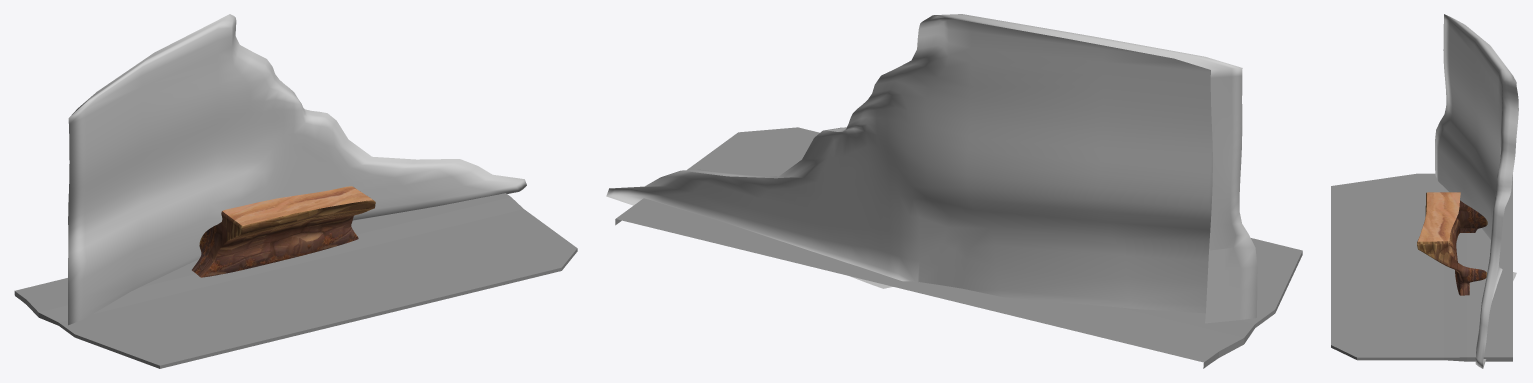
File: boss.FBX
3 renders of one model, left to right at view 1: azimuth 30°, elevation 25°; view 2: azimuth 150°, elevation 25°; view 3: azimuth 270°, elevation 25°, orthographic. The views are drawn at different scales.
Parts seen in each view (by area): view 1: Stage_Left, Ground, platform-problem; view 2: Stage_Left, Ground; view 3: Ground, Stage_Left, platform-problem.
Boxes of the visible parts, x1,y1,x2,y2 form: Stage_Left: (68, 14, 526, 325); Ground: (14, 193, 577, 368); platform-problem: (192, 186, 375, 277); Stage_Left: (606, 14, 1257, 323); Ground: (615, 127, 1302, 368); Ground: (1331, 173, 1512, 361); Stage_Left: (1435, 14, 1518, 368); platform-problem: (1417, 192, 1487, 295).
Size of the model in its own units: 1021 by 411 by 449.
